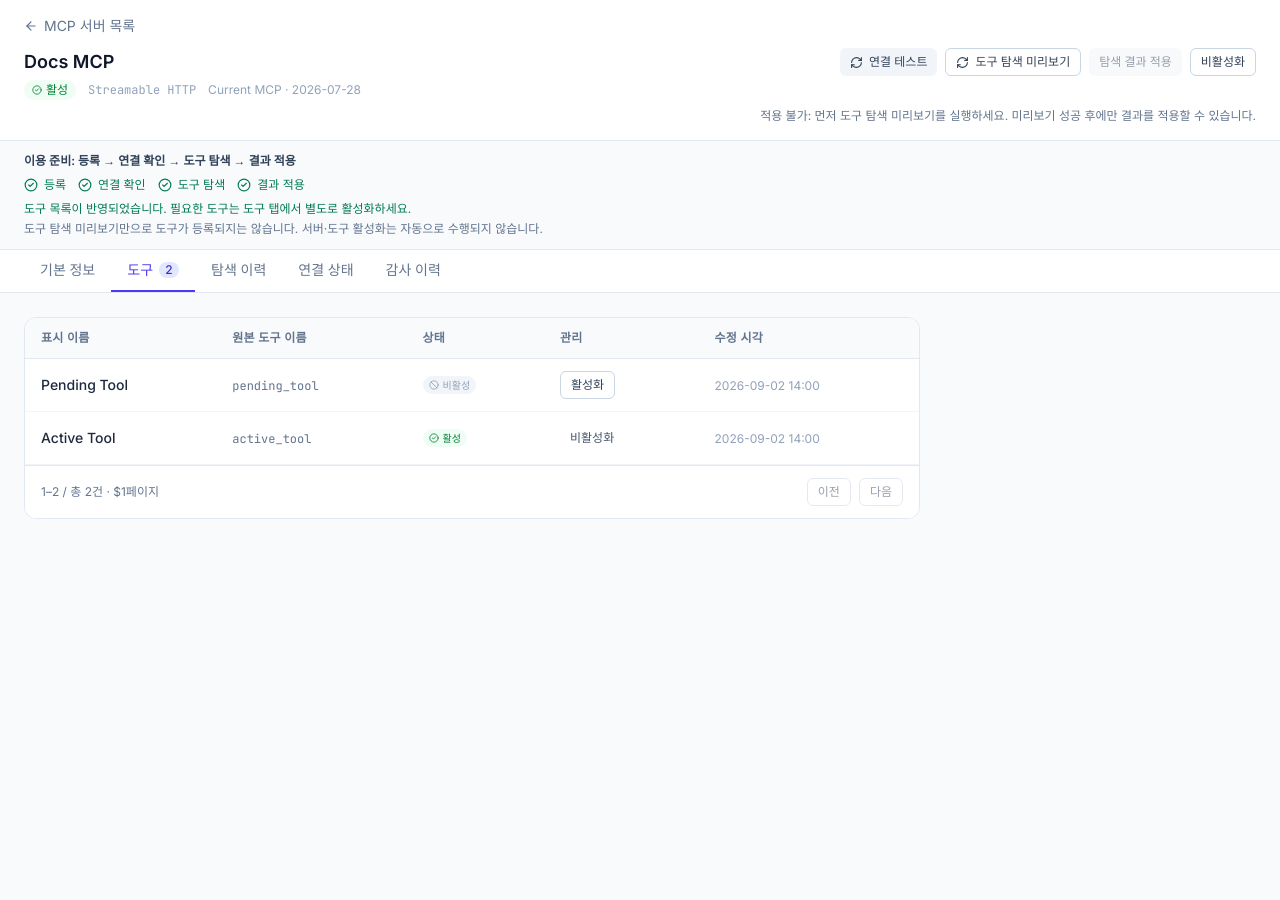
Test case: MCP server tool list: inline lifecycle and tab preservation › activates one INACTIVE row only after explicit confirmation, stays on Tools tab, and sends If-Match
The image size is (1280, 900).
What coordinates should you click on to do the following:
click the button with aria-label "도구 활성화: Pending Tool"
I would click on:
 (588, 385)
Its box is [560,371,615,399].
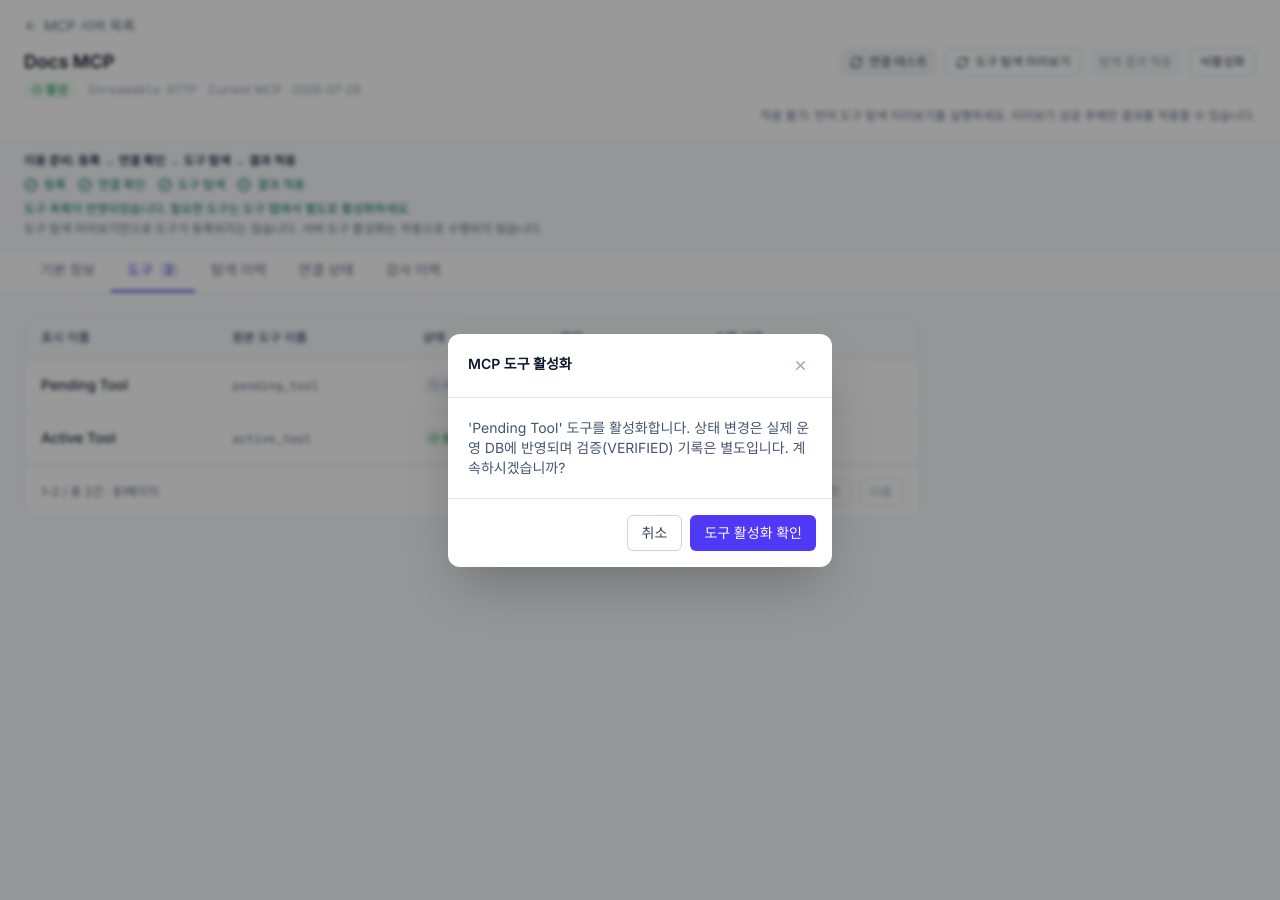
Expected: the heading "MCP 도구 활성화" is shown, [468,354,572,374]
What coordinates should you click on to do the following:
click the button "도구 활성화 확인"
I would click on:
 (753, 532)
Its box is [690,514,816,550].
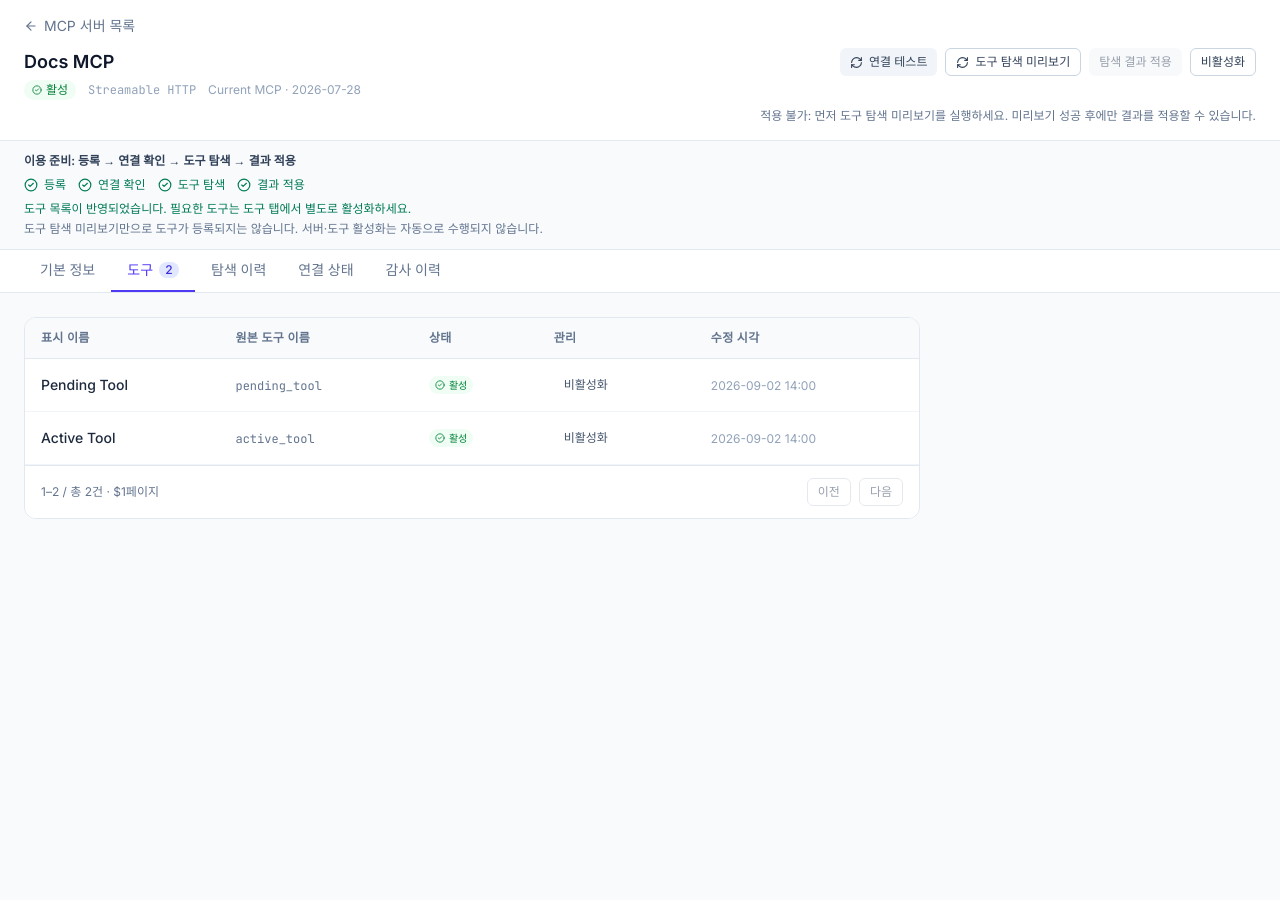
Expected: the button with aria-label "도구 비활성화: Pending Tool" is shown, [554,371,618,399]
